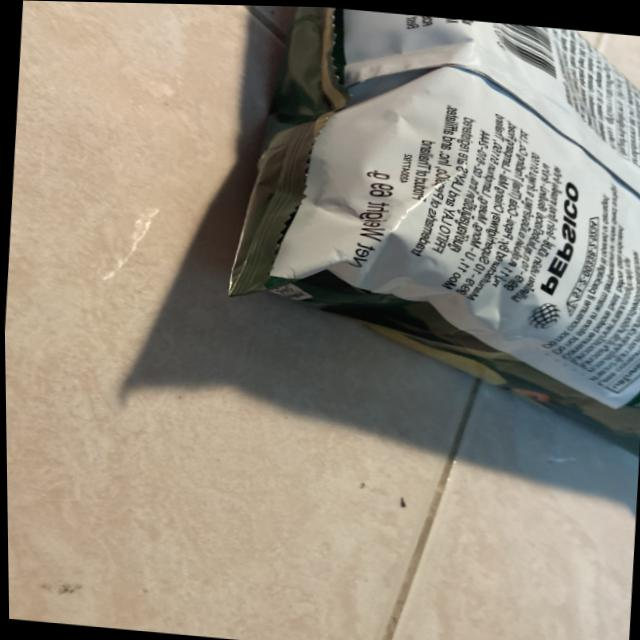Laygreen: (209, 4, 640, 462)
